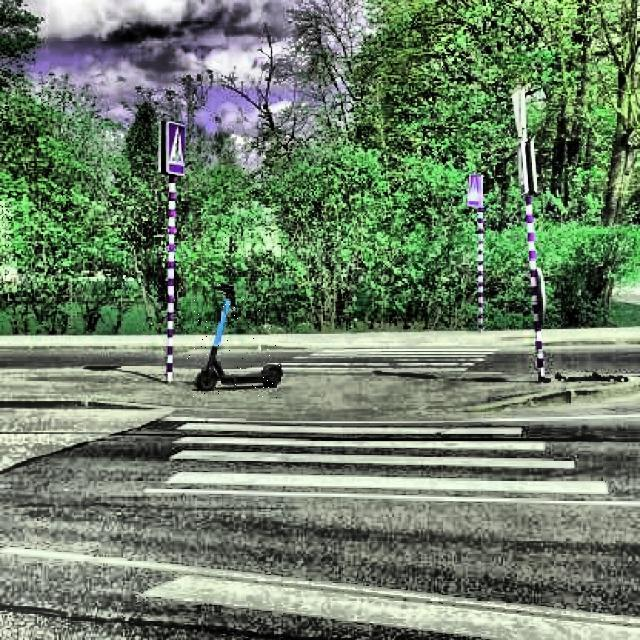bike: (194, 296, 283, 392)
